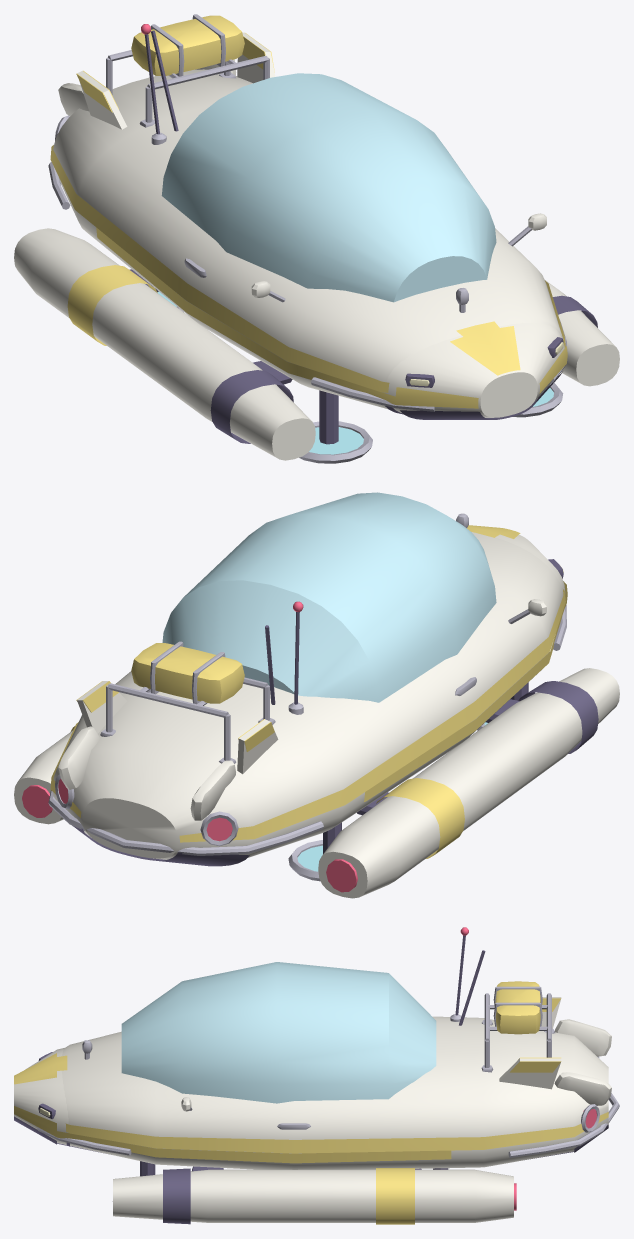
The model's file is hovercar.glb.
3 renders of one model, top to bottom at view 1: azimuth 30°, elevation 25°; view 2: azimuth 150°, elevation 25°; view 3: azimuth 270°, elevation 25°, orthographic. The views are drawn at different scales.
Visible parts, largest first — view 1: canopy.001, hull.001, podL, hull, swoosh, chine, luggage, podR, podBandL, spine, podIntakeL, lift0_stem (+8 smaller); view 2: hull.001, canopy.001, podL, swoosh, luggage, podBandL, bumperR, chine, podR, podIntakeL, fin1.001, fin-1.001 (+9 smaller); view 3: hull.001, canopy.001, podR, swoosh, chine, hull, podBandR, luggage, podIntakeR, fin1.001, fin-1.001, fin1 (+4 smaller).
Part boxes in pixels (bbox=[...]): canopy.001: bbox=[161, 73, 496, 302]; hull.001: bbox=[53, 69, 562, 405]; podL: bbox=[14, 228, 315, 460]; hull: bbox=[189, 302, 564, 417]; swoosh: bbox=[50, 145, 565, 392]; chine: bbox=[96, 227, 567, 408]; luggage: bbox=[131, 15, 244, 75]; podR: bbox=[544, 279, 619, 386]; podBandL: bbox=[67, 265, 157, 345]; spine: bbox=[450, 321, 520, 375]; podIntakeL: bbox=[210, 370, 293, 443]; lift0_stem: bbox=[319, 390, 338, 444]; hull.001: bbox=[52, 532, 563, 859]; canopy.001: bbox=[162, 492, 496, 702]; podL: bbox=[318, 668, 619, 898]; swoosh: bbox=[50, 589, 565, 842]; luggage: bbox=[131, 643, 244, 703]; podBandL: bbox=[376, 778, 464, 858]; bumperR: bbox=[48, 790, 323, 855]; chine: bbox=[364, 581, 567, 801]; podR: bbox=[14, 730, 72, 824]; podIntakeL: bbox=[518, 681, 598, 753]; fin1.001: bbox=[58, 726, 99, 789]; fin-1.001: bbox=[190, 760, 235, 820]; hull.001: bbox=[61, 1016, 608, 1169]; canopy.001: bbox=[121, 962, 436, 1103]; podR: bbox=[113, 1169, 513, 1222]; swoosh: bbox=[65, 1112, 608, 1153]; chine: bbox=[14, 1106, 451, 1163]; hull: bbox=[14, 1048, 291, 1169]; podBandR: bbox=[376, 1168, 414, 1224]; luggage: bbox=[495, 981, 540, 1034]; podIntakeR: bbox=[163, 1168, 190, 1224]; fin1.001: bbox=[554, 1072, 611, 1105]; fin-1.001: bbox=[554, 1019, 611, 1056]; fin1: bbox=[499, 1058, 561, 1089].
Size of the model in its own units: 3.92 by 2.71 by 7.03.
